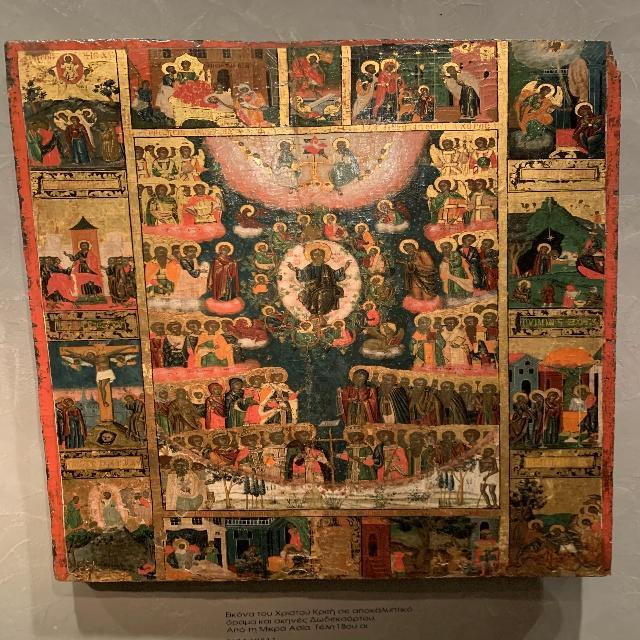angel: (512, 80, 563, 139), (422, 177, 466, 227), (432, 134, 467, 179), (179, 185, 221, 221), (142, 183, 179, 223), (467, 177, 496, 222), (146, 149, 182, 182), (467, 136, 498, 174), (373, 197, 410, 223), (179, 148, 207, 181), (83, 60, 108, 87), (58, 355, 92, 372), (35, 65, 58, 89), (112, 355, 137, 369)
apostle: (319, 213, 352, 241), (292, 213, 322, 243), (364, 275, 394, 302), (352, 223, 376, 255), (250, 245, 277, 273), (326, 318, 353, 346), (363, 245, 390, 273), (249, 273, 276, 300), (355, 302, 382, 326), (273, 220, 292, 251), (294, 320, 318, 344), (263, 303, 281, 333)
aura: (304, 242, 334, 264), (247, 368, 267, 386), (479, 234, 501, 250), (202, 317, 223, 333), (207, 378, 228, 394), (436, 236, 458, 251), (165, 317, 185, 333), (459, 232, 479, 248), (214, 241, 236, 255), (472, 174, 490, 191), (171, 383, 189, 400), (182, 318, 202, 333), (149, 318, 167, 334), (267, 367, 286, 382), (399, 240, 420, 253), (443, 62, 461, 77), (439, 135, 457, 150), (156, 385, 171, 403), (191, 383, 210, 397), (361, 60, 379, 74), (575, 103, 593, 117), (190, 182, 208, 195), (436, 177, 454, 190), (178, 57, 194, 71), (381, 58, 397, 72), (333, 137, 350, 150), (155, 144, 172, 157), (276, 138, 294, 150), (162, 62, 178, 74), (538, 85, 554, 97), (320, 214, 336, 226), (473, 136, 490, 147), (295, 214, 312, 225), (60, 395, 77, 406), (156, 183, 171, 195), (354, 223, 369, 235), (371, 273, 386, 285), (122, 392, 137, 404), (377, 199, 393, 210), (178, 146, 194, 156), (262, 305, 276, 316), (255, 274, 269, 285), (78, 240, 92, 251), (274, 221, 287, 232), (537, 244, 552, 253), (367, 246, 380, 256), (300, 321, 313, 331), (256, 242, 268, 252), (333, 320, 345, 330), (68, 114, 81, 123), (363, 301, 376, 310), (84, 349, 97, 358), (519, 280, 531, 289), (308, 53, 319, 62), (419, 86, 430, 94), (57, 111, 67, 119), (82, 110, 93, 116), (65, 54, 72, 63)
book: (450, 335, 465, 348), (474, 332, 487, 343), (425, 333, 437, 342), (491, 328, 500, 340)
christ: (64, 235, 97, 301)
christ_crucifixion: (79, 346, 123, 408)
christ_pantocrator: (283, 243, 361, 320)
christ_resurrected: (58, 54, 82, 86)
cloud: (401, 294, 438, 311), (206, 296, 243, 313), (375, 219, 412, 233), (231, 224, 268, 238)
cross: (62, 343, 136, 434), (301, 155, 324, 183)
dove: (302, 137, 323, 156)
eagle: (236, 204, 272, 229)
father: (328, 138, 358, 183), (272, 141, 299, 189)
mary: (570, 98, 606, 160), (210, 242, 243, 297), (377, 59, 401, 120), (59, 397, 86, 447), (66, 114, 90, 164), (527, 243, 552, 275)
ox: (560, 249, 575, 266)
saint: (259, 367, 305, 425), (338, 365, 377, 426), (439, 63, 481, 117), (399, 238, 434, 300), (174, 240, 208, 295), (408, 370, 440, 425), (377, 367, 408, 423), (353, 60, 381, 119), (409, 314, 439, 367), (459, 316, 487, 367), (439, 373, 467, 424), (199, 320, 229, 367), (242, 368, 269, 420), (149, 243, 174, 296), (221, 374, 247, 424), (477, 237, 501, 287), (460, 233, 479, 289), (205, 379, 228, 425), (441, 316, 463, 363), (478, 378, 500, 425), (457, 377, 479, 423), (171, 382, 192, 428), (156, 383, 173, 435), (184, 317, 204, 361), (124, 393, 142, 441), (166, 319, 184, 365), (484, 309, 499, 360), (190, 382, 208, 422), (151, 320, 166, 366), (304, 54, 320, 97), (420, 83, 436, 121), (162, 62, 179, 91), (179, 56, 195, 85), (53, 111, 68, 127), (84, 109, 95, 125)
scroll: (336, 388, 347, 418)
trinity: (271, 135, 359, 189)
urn: (219, 112, 237, 129)
wing: (176, 185, 195, 216), (421, 183, 442, 204), (391, 201, 410, 220), (140, 189, 155, 213), (454, 178, 469, 201), (145, 150, 158, 175), (428, 142, 443, 163), (465, 139, 479, 157), (552, 85, 563, 106), (170, 150, 180, 172), (194, 150, 206, 168), (211, 187, 222, 206), (522, 81, 538, 94), (91, 60, 109, 69), (491, 180, 499, 198), (63, 354, 74, 363), (34, 65, 50, 71), (373, 211, 381, 220), (124, 354, 136, 360), (80, 362, 92, 367), (110, 358, 117, 363)
